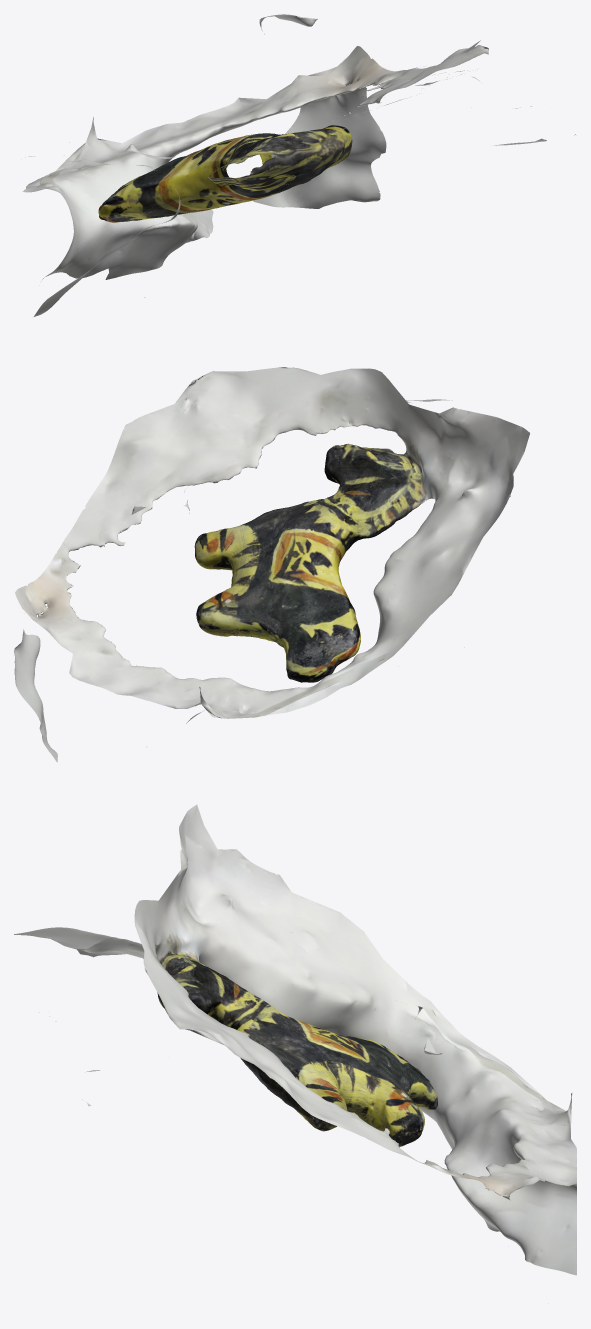
3 renders of one model, top to bottom at view 1: azimuth 30°, elevation 25°; view 2: azimuth 150°, elevation 25°; view 3: azimuth 270°, elevation 25°, orthographic. The views are drawn at different scales.
Bounding box in the file's own units: 1.32 × 0.9522 × 1.52.
1 material, 1 textured.
